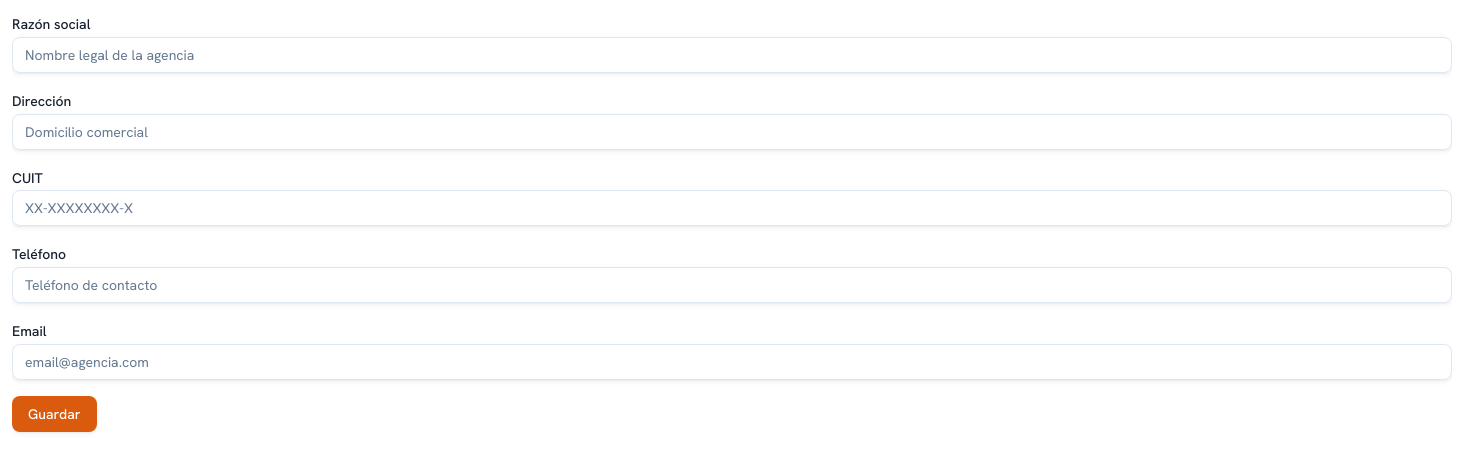
Scenario: AgencyProfileForm — zod validation › shows email validation error for invalid email and blocks submit
Type "not-an-email" into the field labelled "Email" at [732, 362], box [12, 344, 1452, 380]
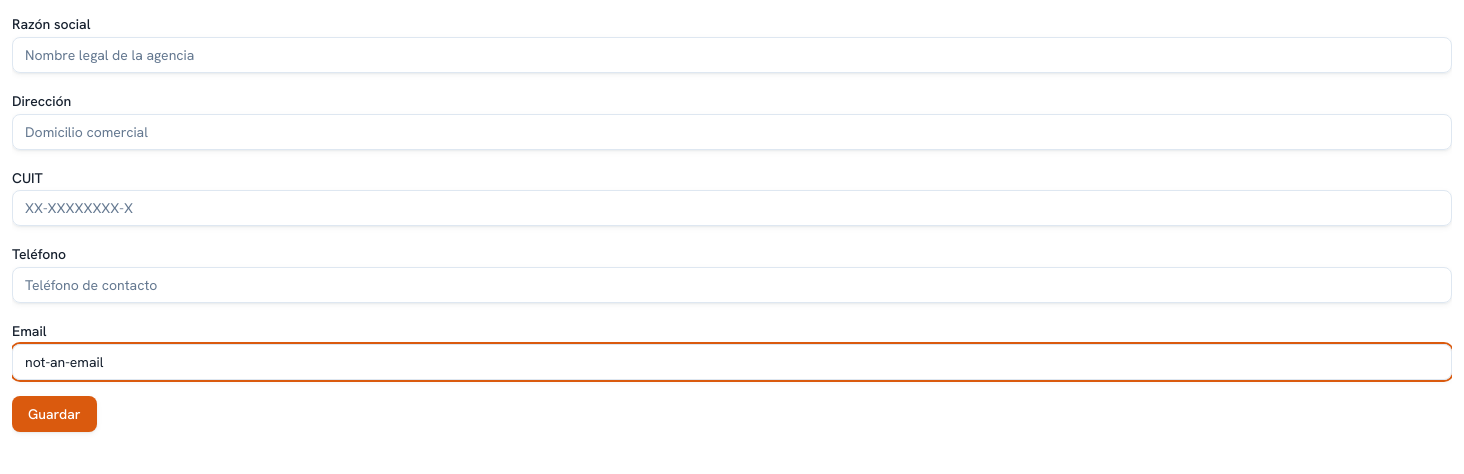
Click the button "Guardar" at [54, 414], box [12, 396, 96, 432]
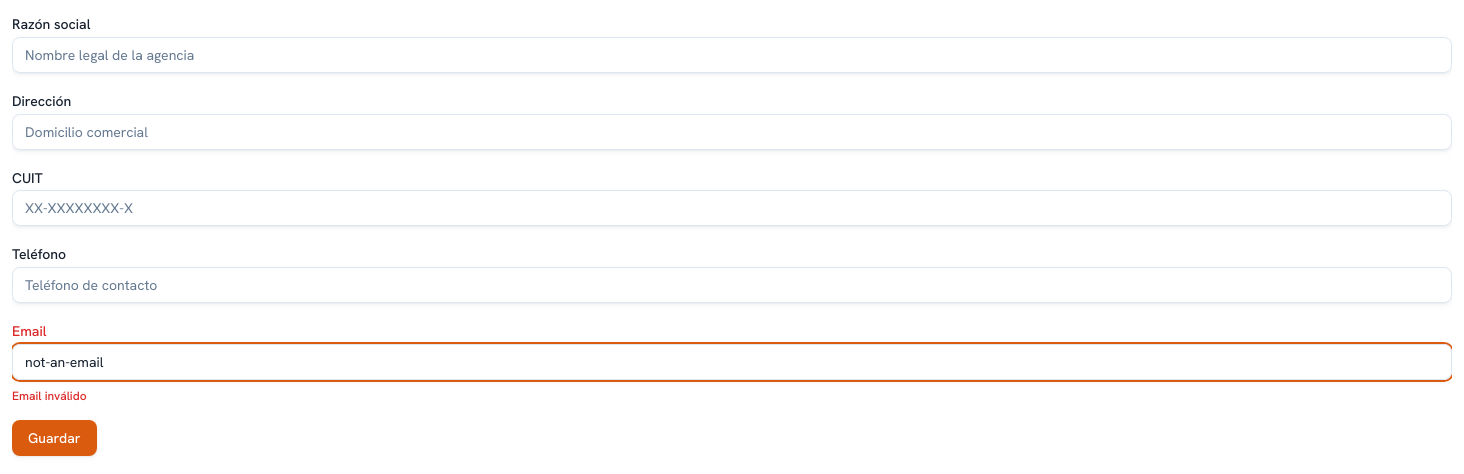
Check: the text "Email inválido" is shown, box [12, 388, 86, 404]
